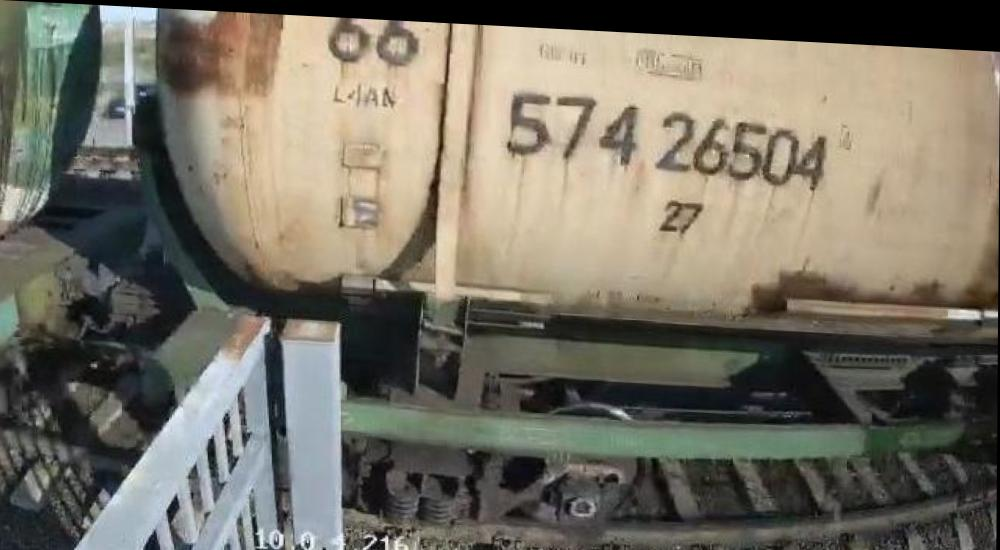Wagon-number: (502, 83, 831, 188)
